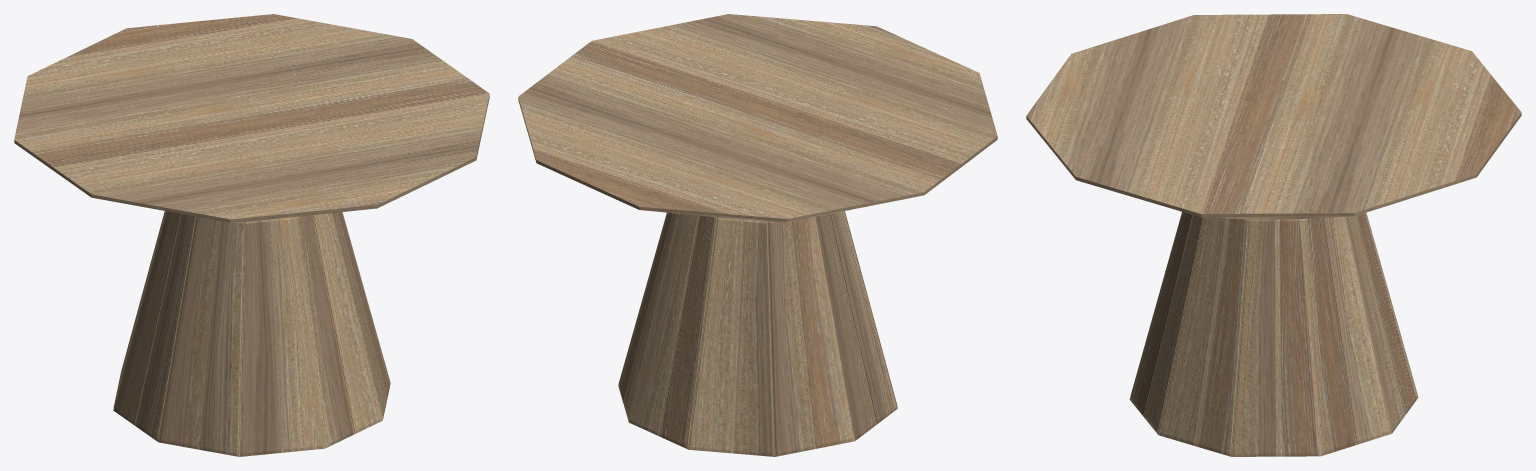
File: dining_table_abo_B075Z8629N.glb
The picture shows the model from 3 angles, left to right: view 1: azimuth 30°, elevation 25°; view 2: azimuth 150°, elevation 25°; view 3: azimuth 270°, elevation 25°; orthographic projection.
Parts seen in each view (by area): view 1: RootNode; view 2: RootNode; view 3: RootNode.
Part boxes in pixels (bbox=[...]): RootNode: bbox=[14, 14, 489, 456]; RootNode: bbox=[518, 14, 997, 456]; RootNode: bbox=[1026, 14, 1521, 456].
Size of the model in its own units: 1.13 by 0.752 by 1.19.
1 material, 1 textured.
